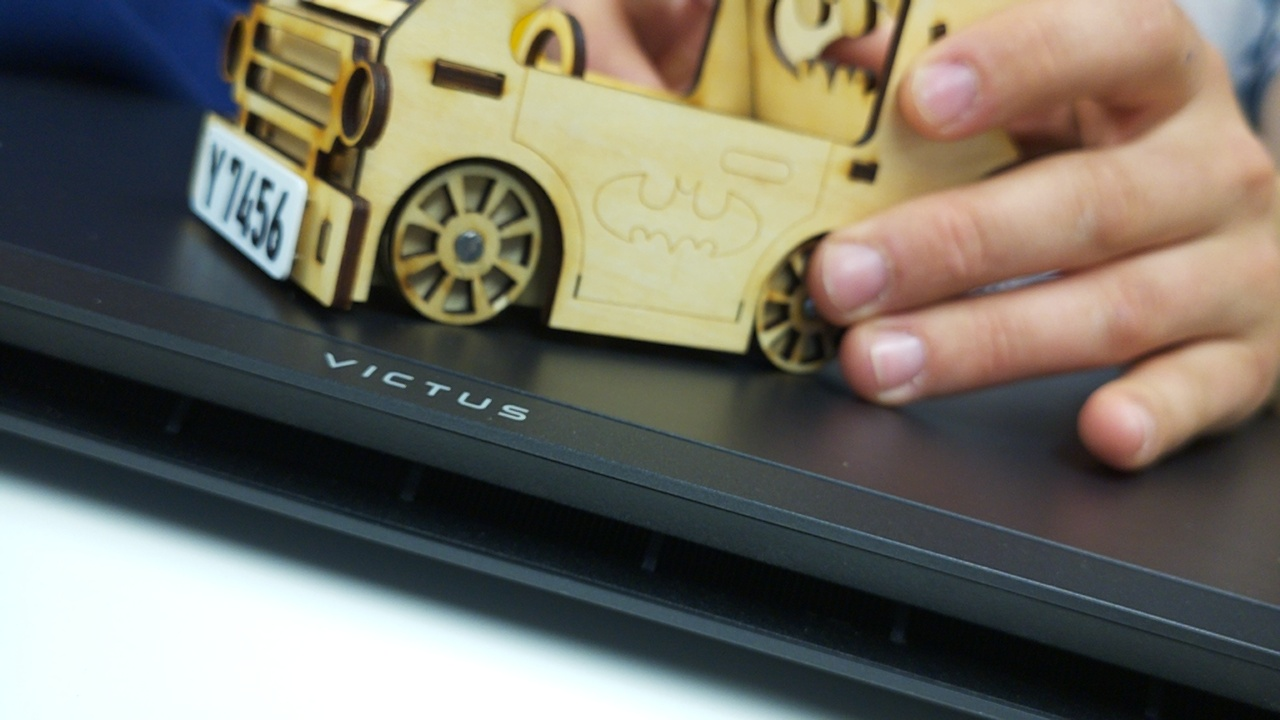license_plate: (187, 116, 310, 283)
